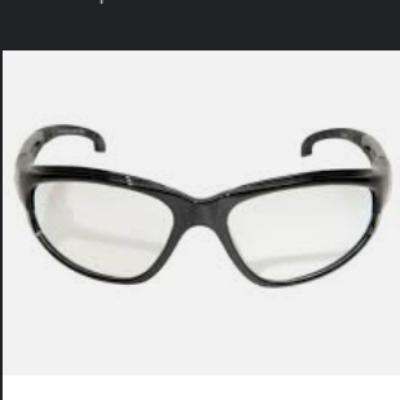glasses: (14, 120, 394, 295)
